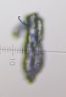microplastic: (12, 12, 47, 84)
